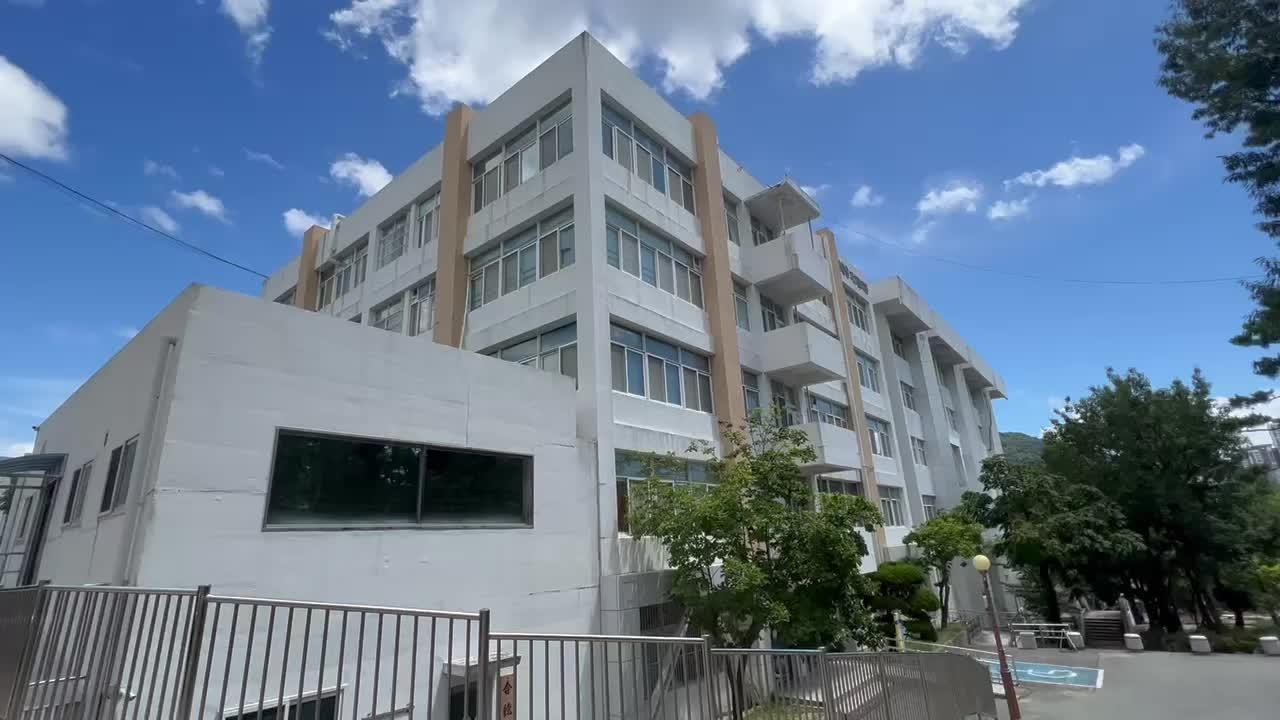building: (172, 83, 617, 593)
